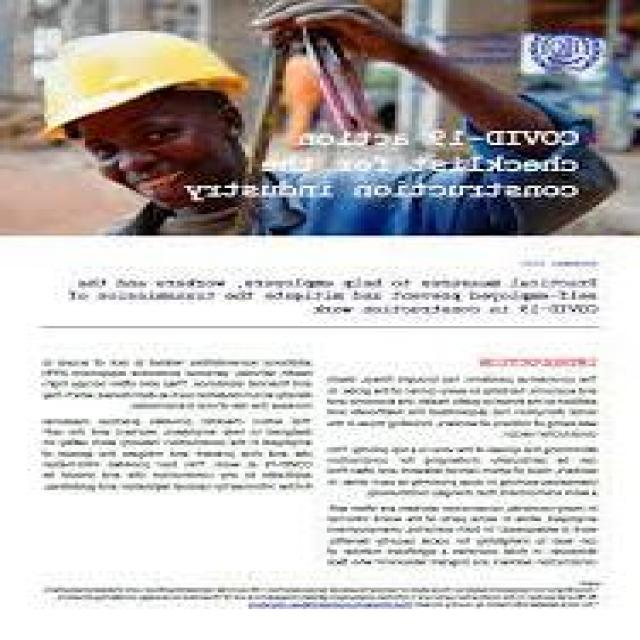Safety-Helmet: (20, 24, 269, 138)
